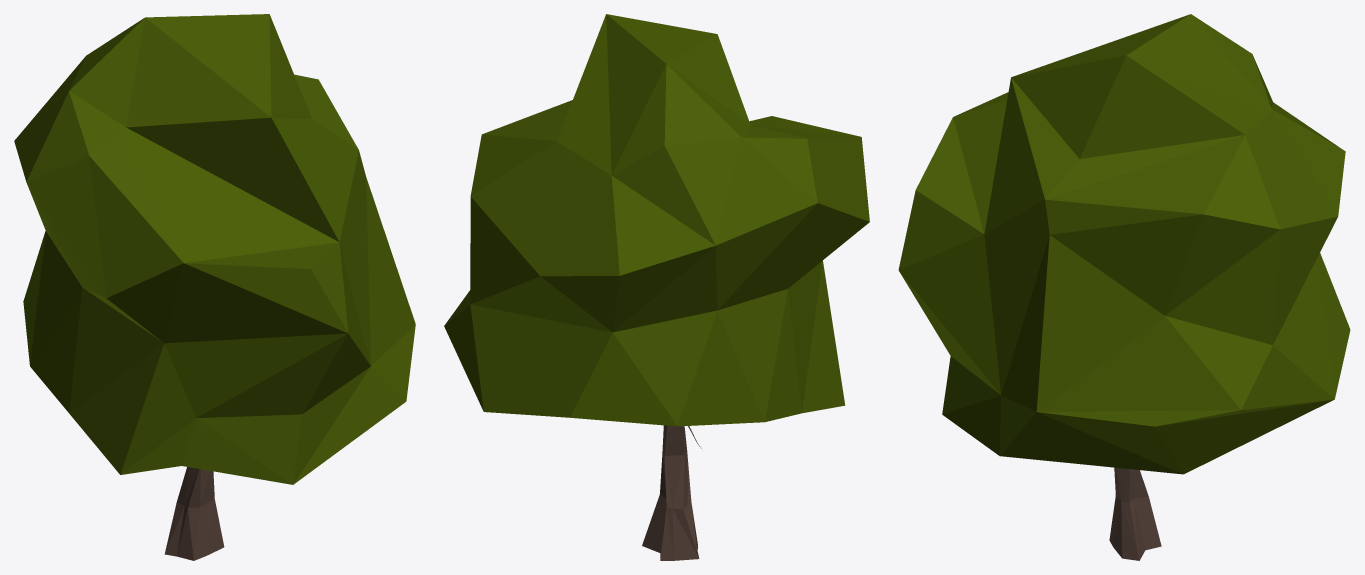
The model's file is tree001.fbx.
3 renders of one model, left to right at view 1: azimuth 30°, elevation 25°; view 2: azimuth 150°, elevation 25°; view 3: azimuth 270°, elevation 25°, orthographic.
Visible parts, largest first — view 1: LOW_POLY_Tree_1_006; view 2: LOW_POLY_Tree_1_006; view 3: LOW_POLY_Tree_1_006.
Part boxes in pixels (left/top/right/bottom): LOW_POLY_Tree_1_006: left=14, top=14, right=415, bottom=560; LOW_POLY_Tree_1_006: left=444, top=14, right=869, bottom=560; LOW_POLY_Tree_1_006: left=898, top=14, right=1350, bottom=560.
Bounding box in the file's own units: 389 × 569 × 443.
